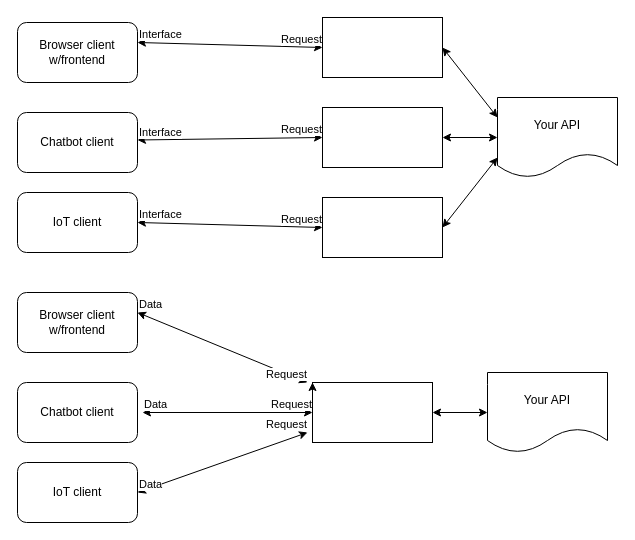
Some shapes in this 635 by 540 pixel diagram are drawn without their labels. The centre of each missing label's shape, as x and y in pixels:
Browser interface endpoint: point (382, 47)
Chatbot interface endpoint: point (382, 137)
GraphQL API: point (372, 412)
IoT interface endpoint: point (382, 227)
